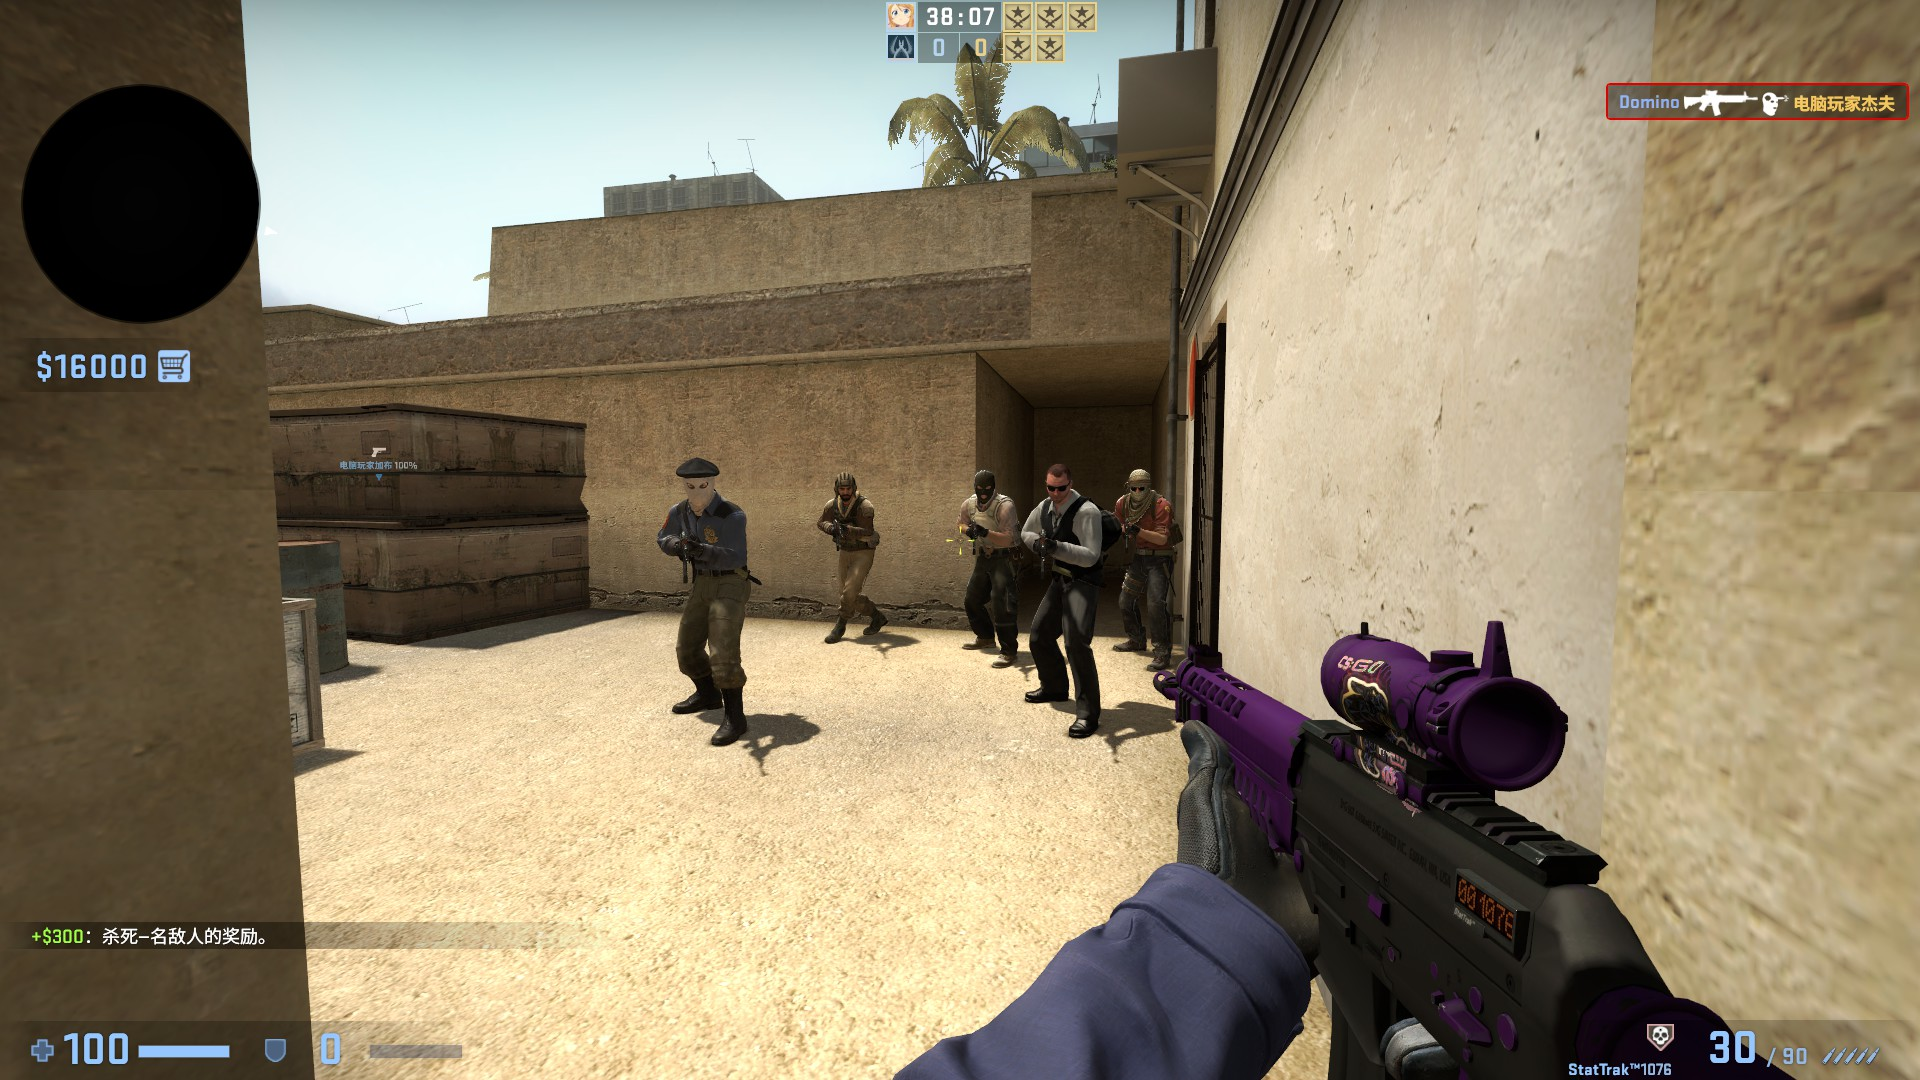head: (673, 455, 715, 505), (1043, 463, 1072, 505), (1123, 468, 1150, 502), (831, 470, 857, 500), (974, 469, 992, 502)
